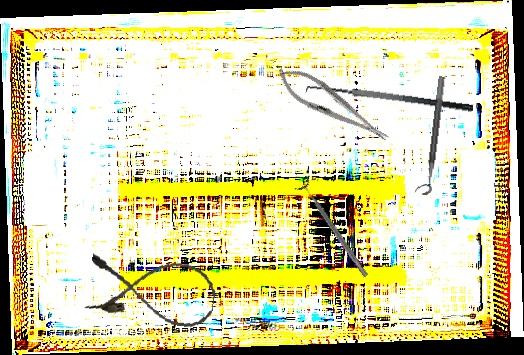Cannula: (83, 249, 220, 331)
Fixation Ring: (293, 178, 374, 282), (414, 74, 446, 197)
Needle Holder: (269, 58, 396, 153)
Spatula Surgical: (304, 77, 474, 126)
